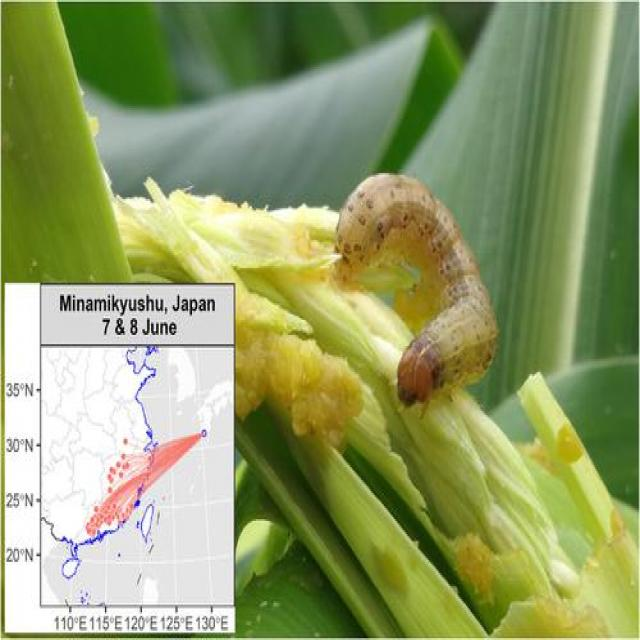cornborer-Larva-: (324, 156, 510, 431)
